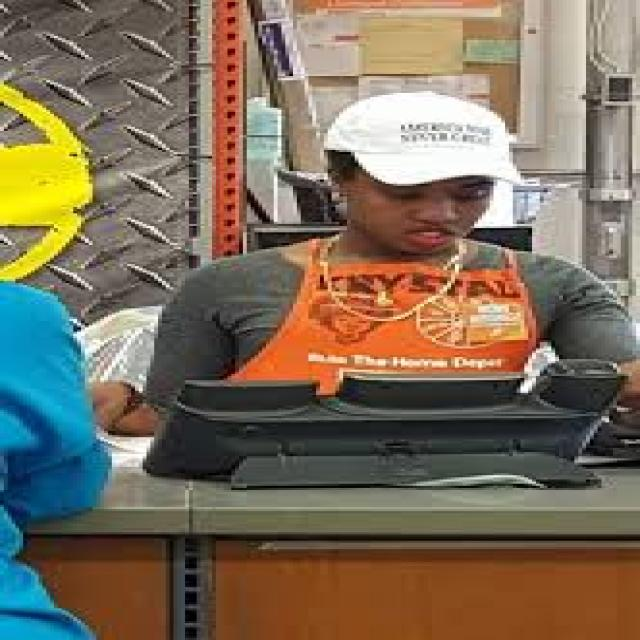3_gorra: (320, 90, 524, 187)
